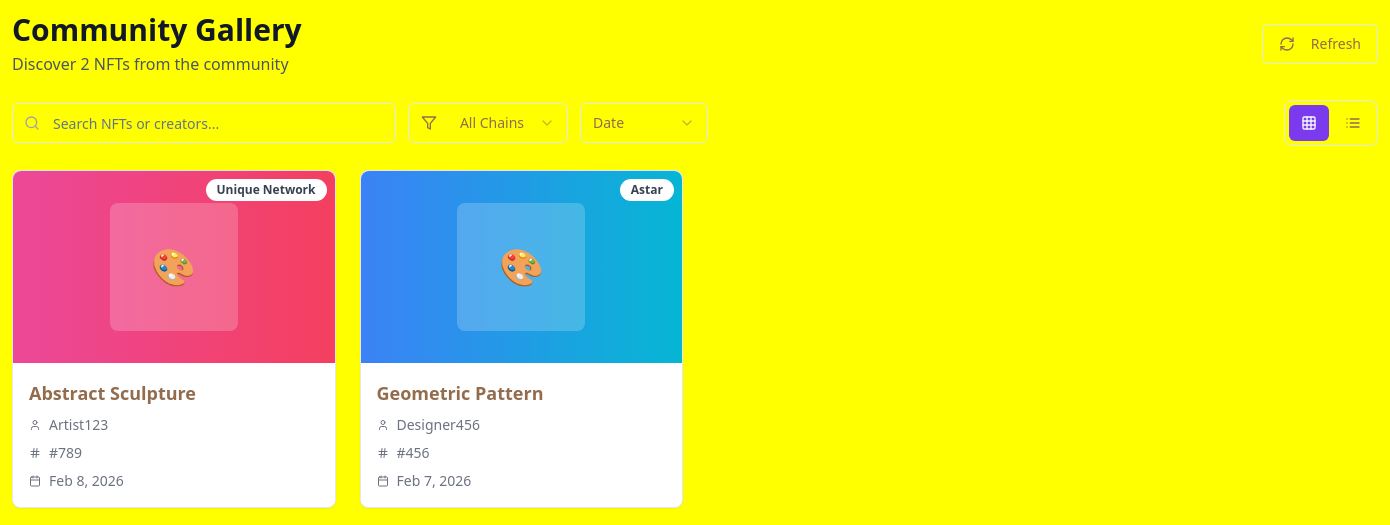
Test: CommunityGallery › shows empty state when no NFTs match filters
Expected: the heading "Abstract Sculpture" is shown, left=29, top=381, right=196, bottom=405
Type "NonexistentNFT" into the field with placeholder "Search NFTs or creators..." at (204, 123), box left=12, top=103, right=396, bottom=143
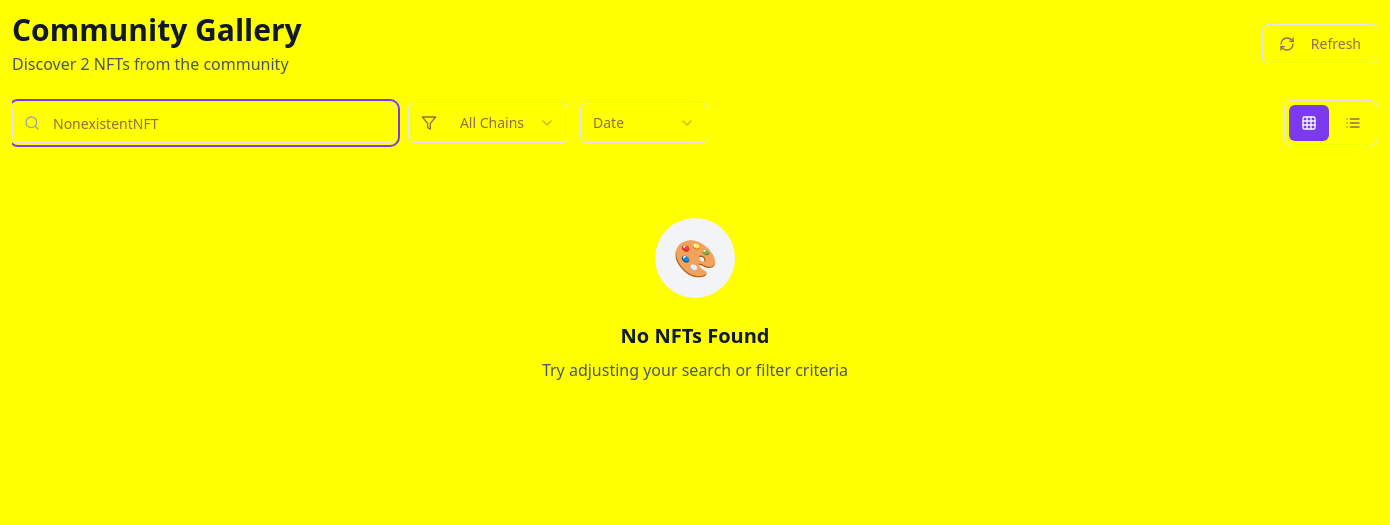
Expected: the heading "No NFTs Found" is shown, left=620, top=322, right=769, bottom=349
Expected: the text "Try adjusting your search or filter criteria" is shown, left=542, top=359, right=848, bottom=381
